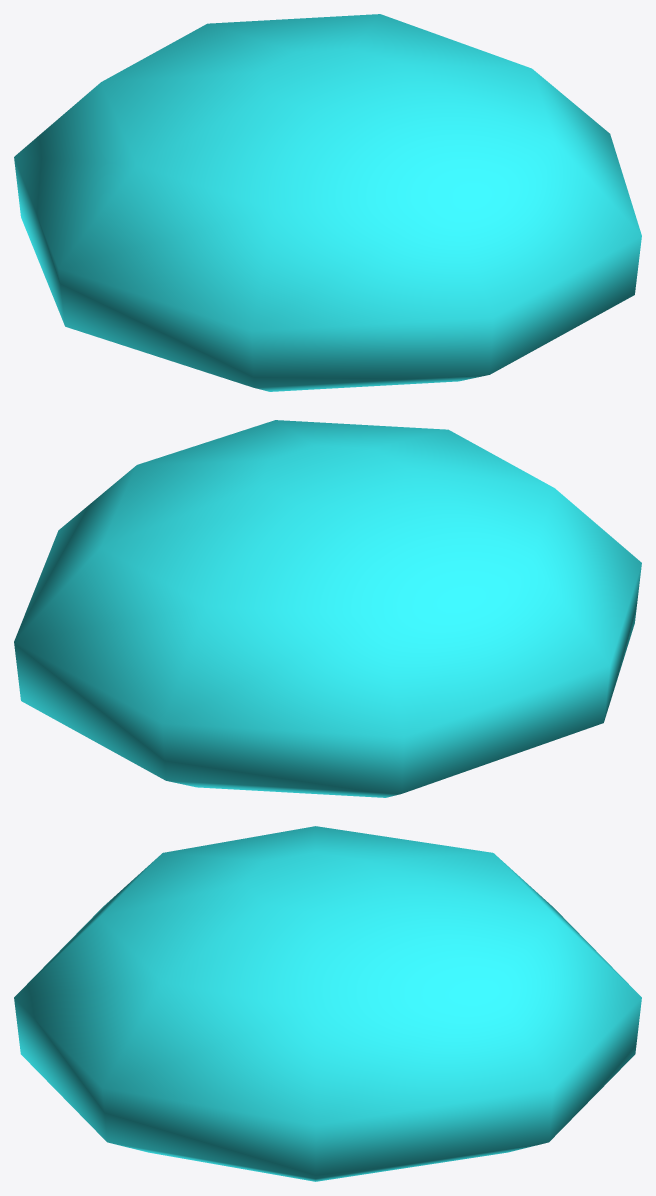
File: Water.fbx
3 views of the same model, one above another, from view 1: azimuth 30°, elevation 25°; view 2: azimuth 150°, elevation 25°; view 3: azimuth 270°, elevation 25° (orthographic). The views are drawn at different scales.
Parts seen in each view (by area): view 1: Water; view 2: Water; view 3: Water.
Part boxes in pixels (x1,y1,x2,y2): Water: [14, 14, 641, 391]; Water: [14, 420, 641, 797]; Water: [14, 826, 641, 1181].
Size of the model in its own units: 76.82 by 27.92 by 79.87.
